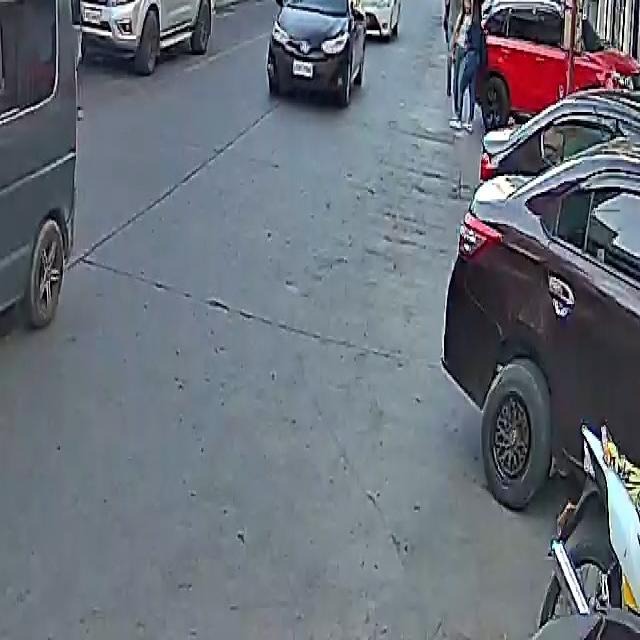car: (445, 69, 640, 527), (0, 0, 80, 487), (461, 0, 639, 130), (266, 0, 368, 105), (78, 0, 224, 69), (347, 0, 399, 39)
